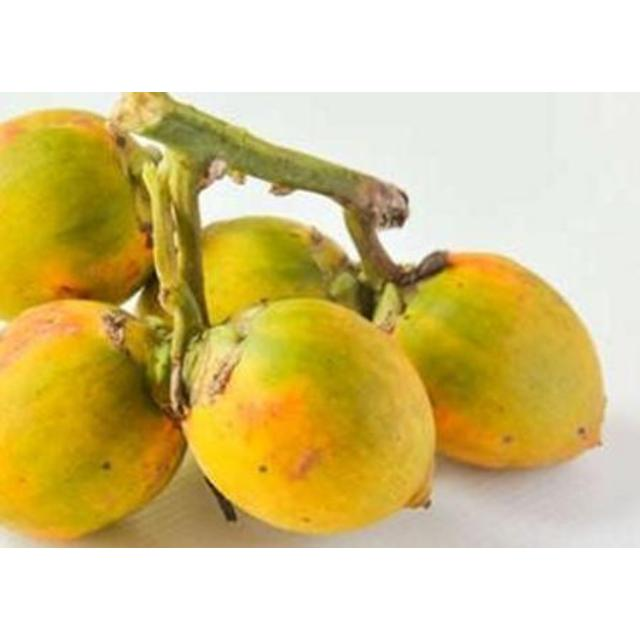good: (181, 296, 437, 536), (388, 252, 604, 470), (0, 298, 186, 540), (2, 105, 158, 318), (144, 219, 358, 333)
